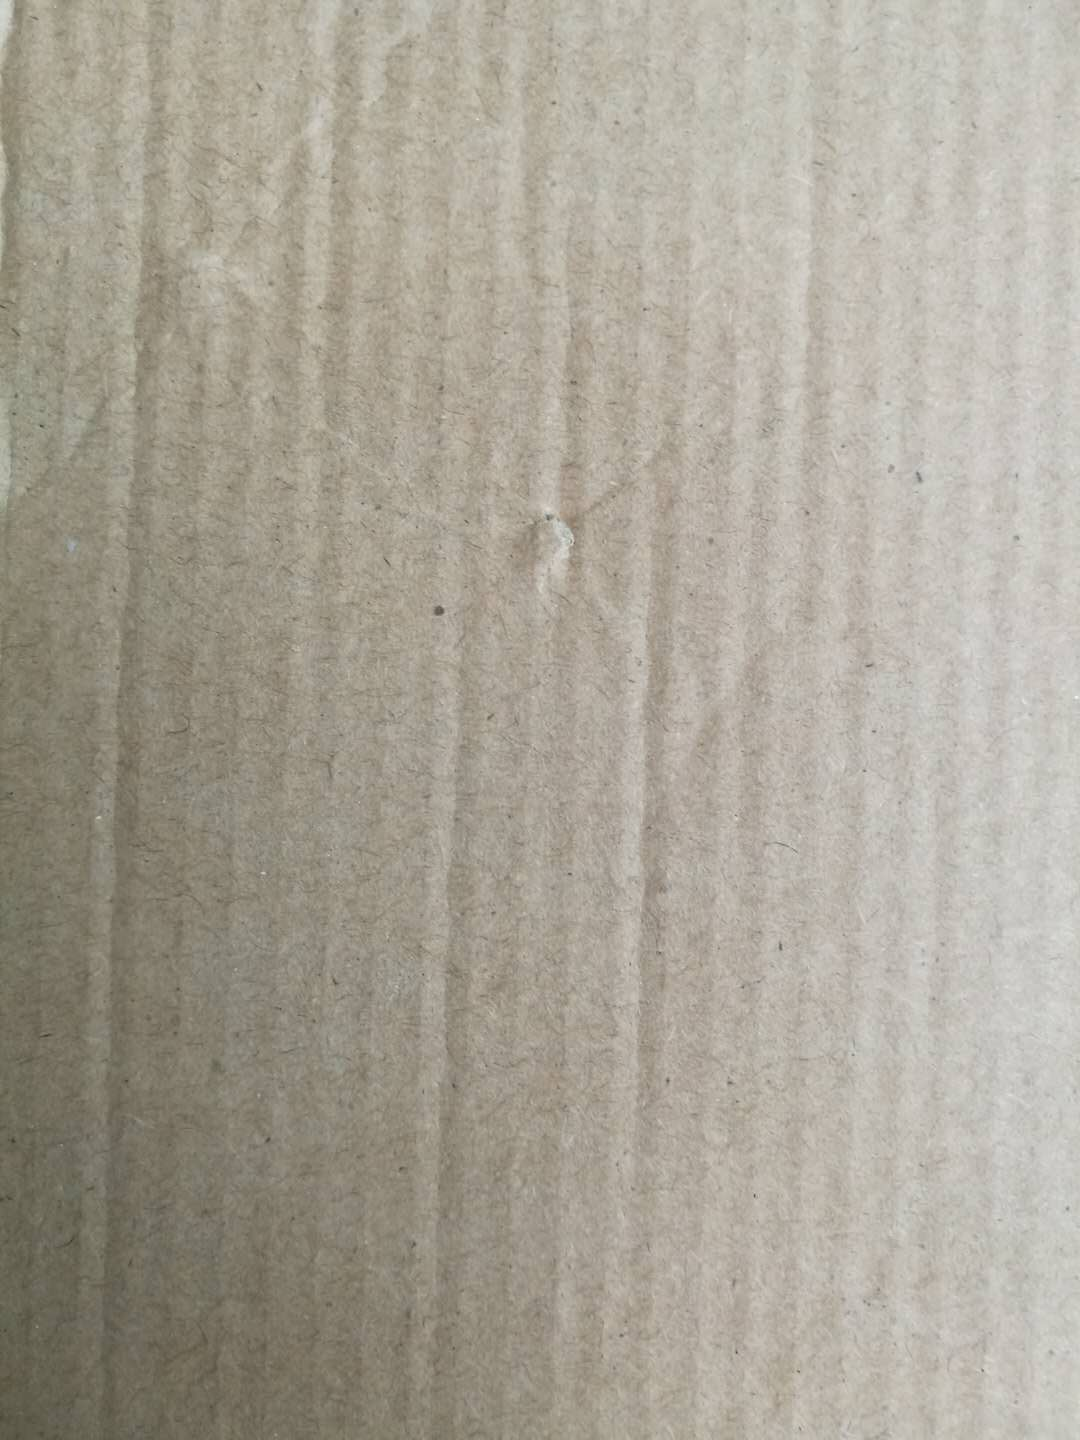defect: (408, 598, 500, 1435), (88, 365, 149, 1439), (617, 562, 685, 1287), (6, 347, 159, 524), (135, 225, 268, 353), (499, 485, 604, 599)
